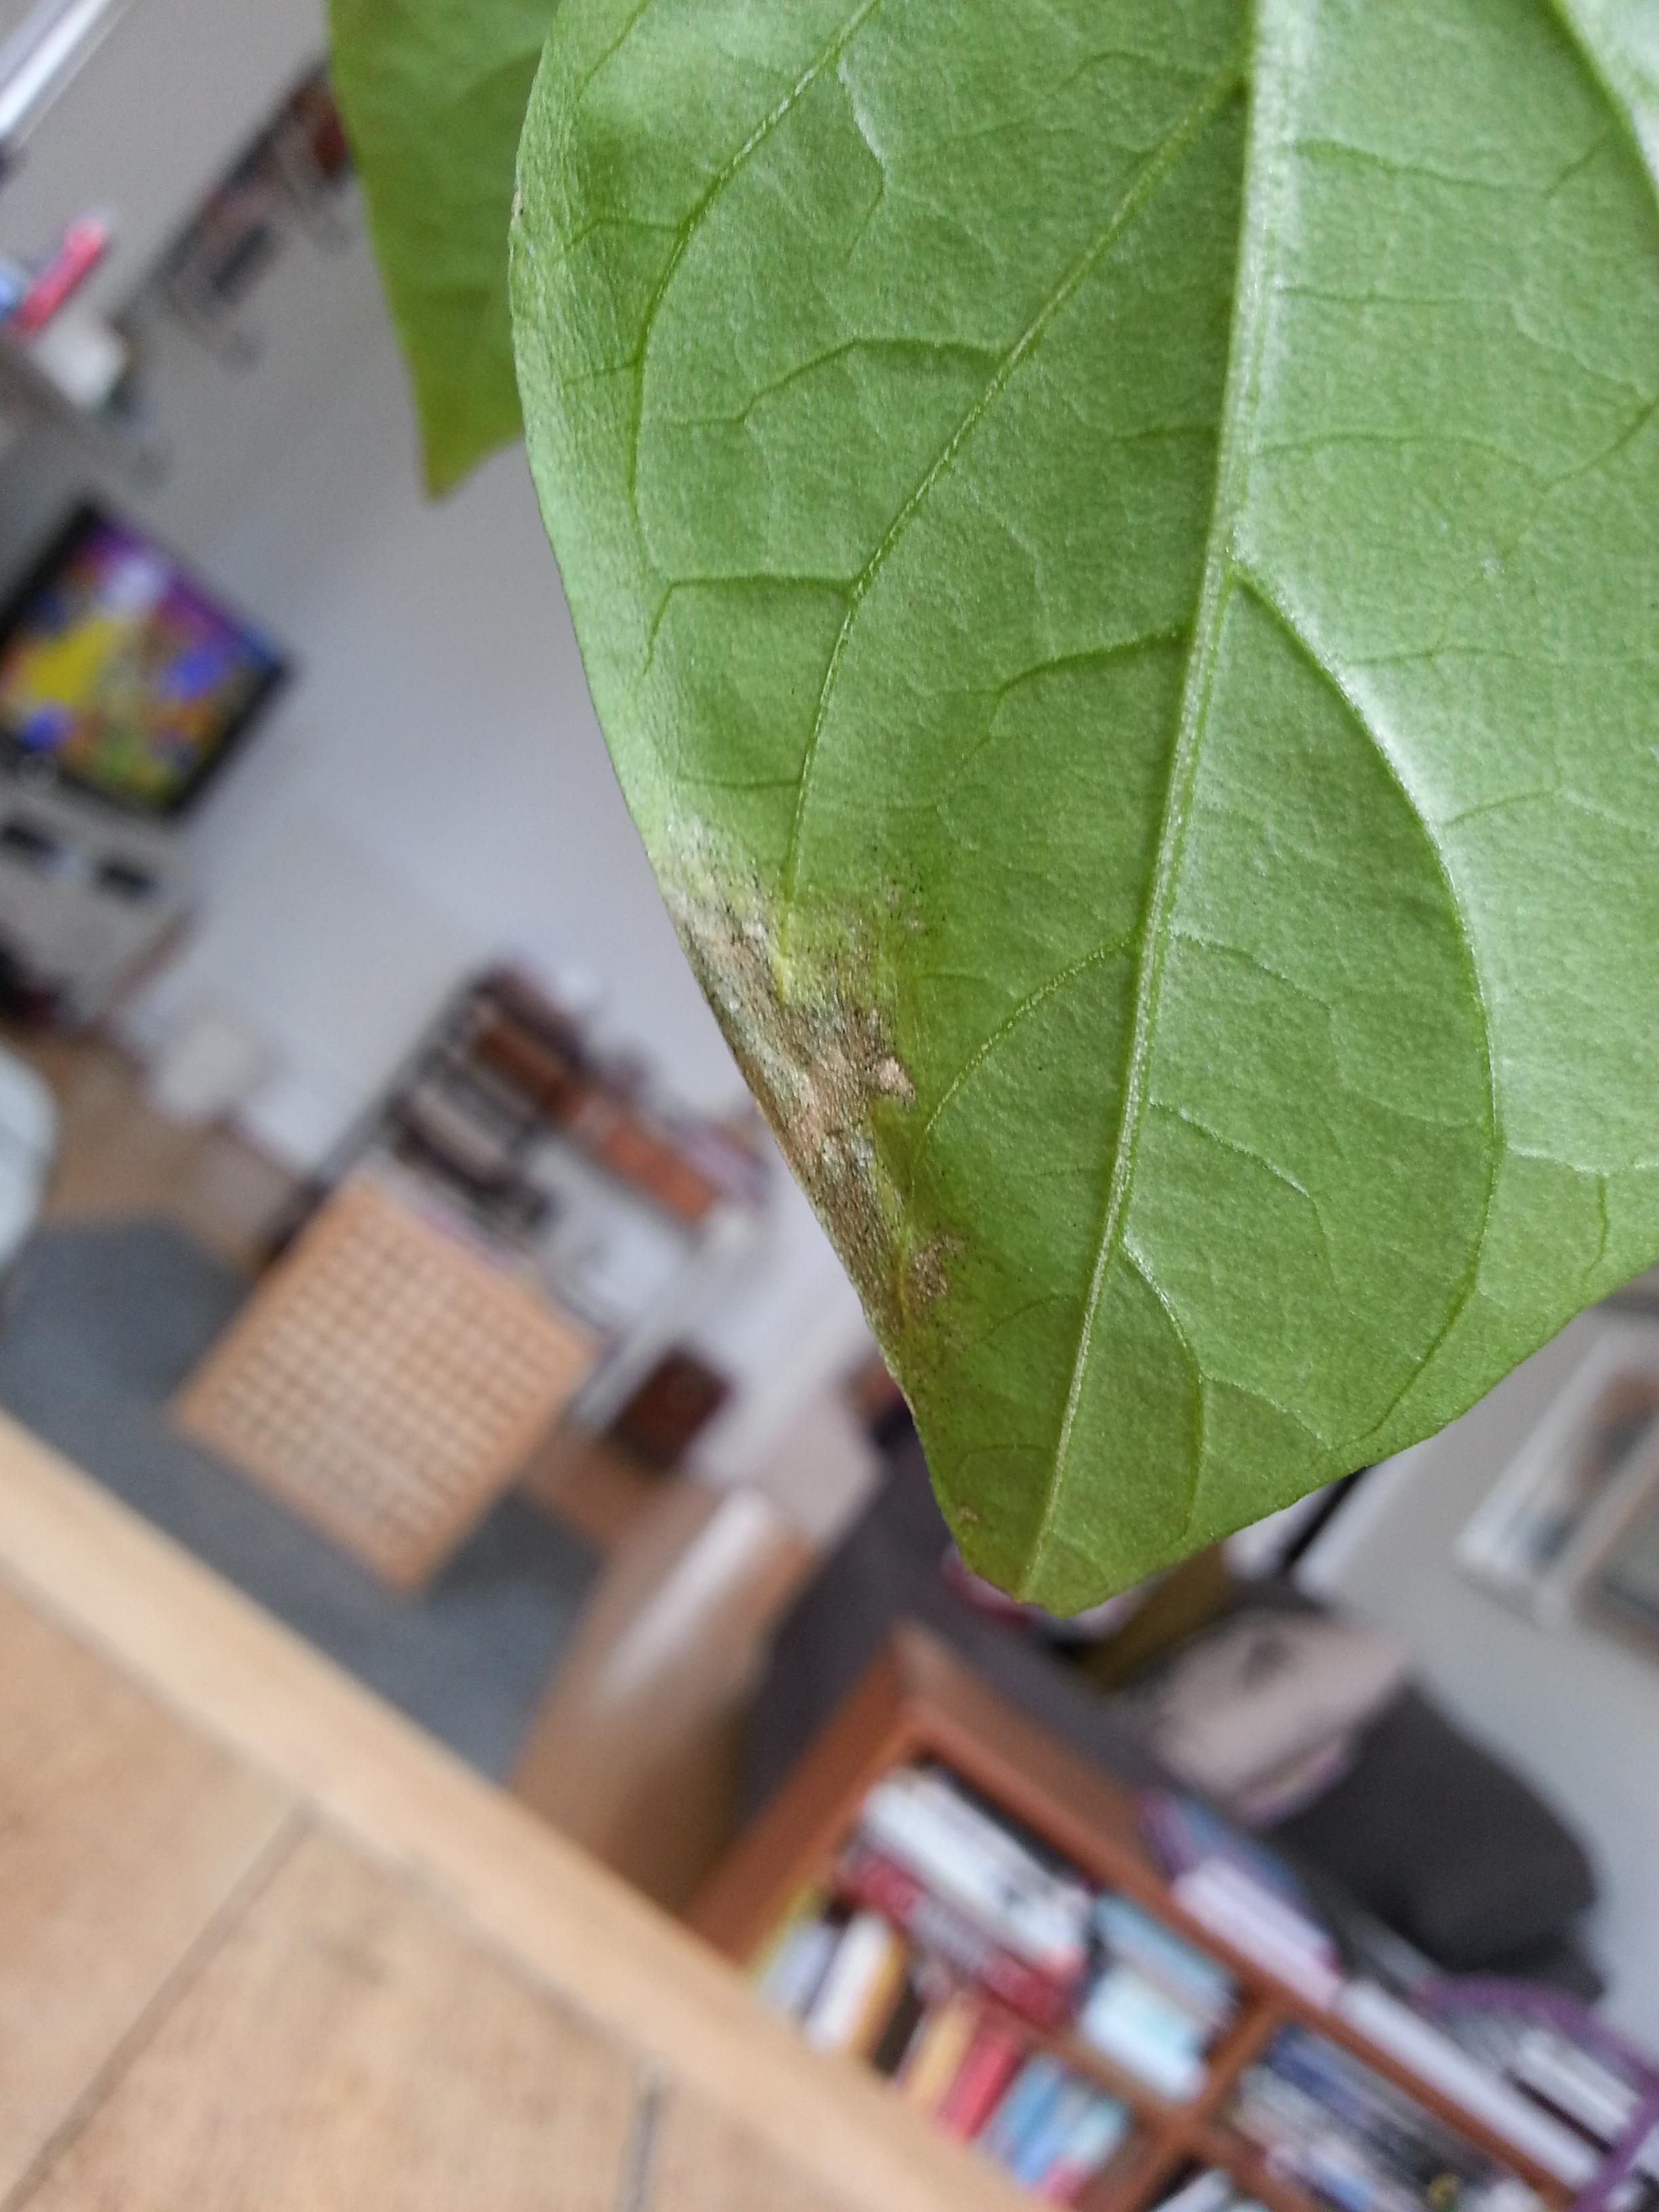Bell_pepper leaf: (484, 16, 1649, 1641)
